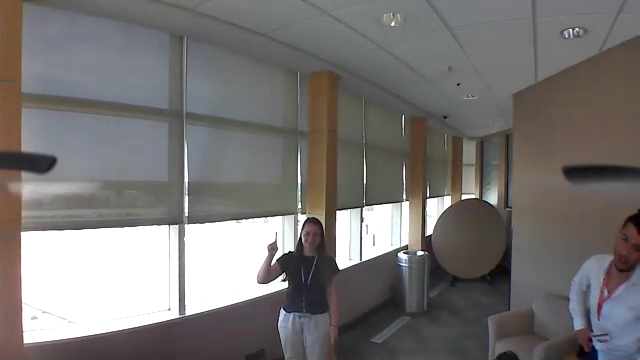up: (265, 228, 281, 257)
